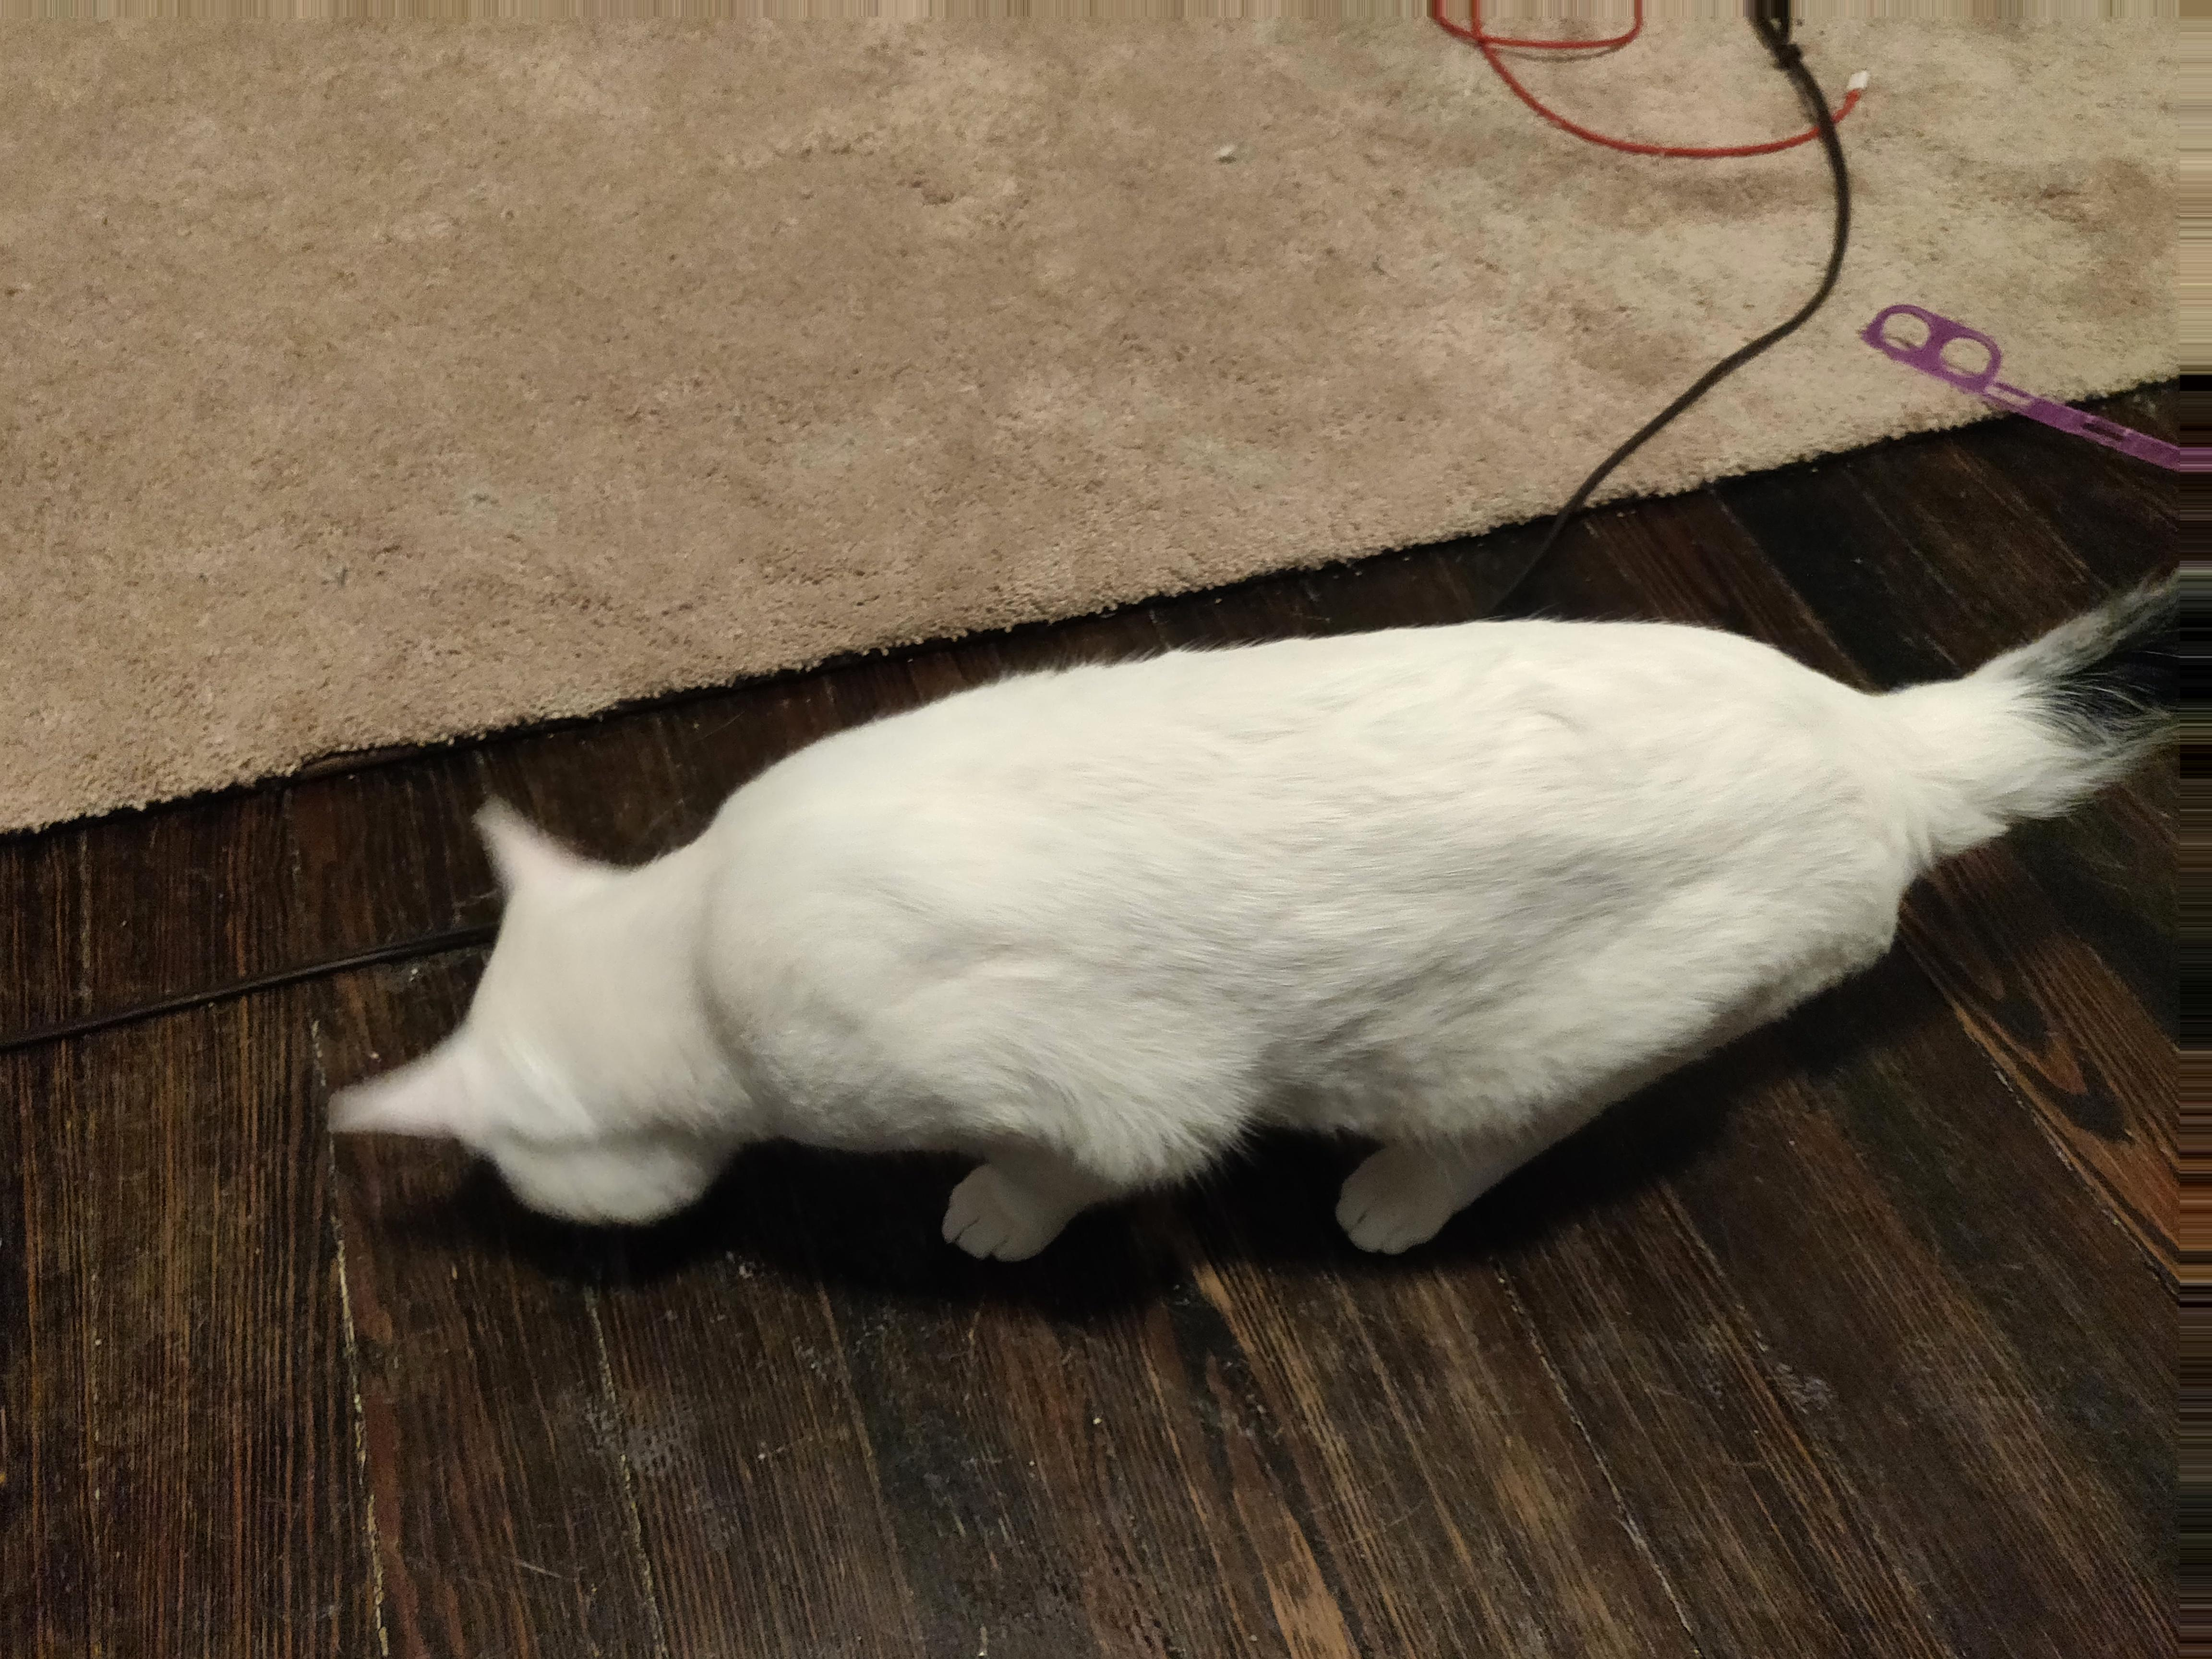cat: (318, 543, 2199, 1250)
